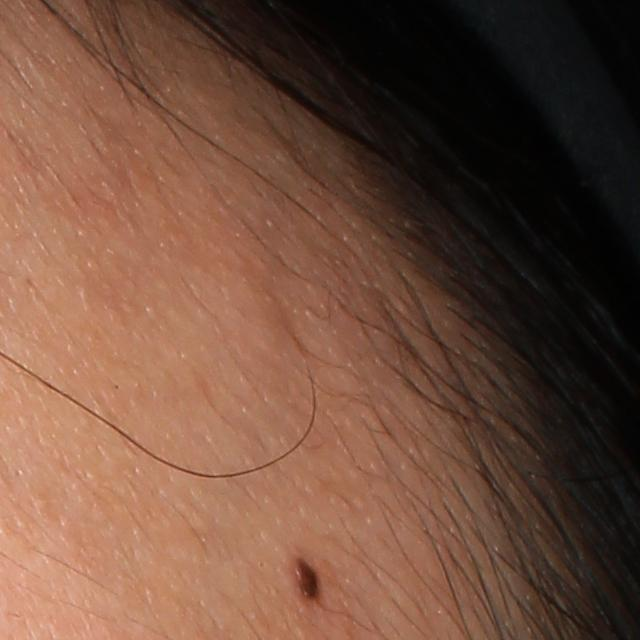nevus: (294, 554, 322, 605)
